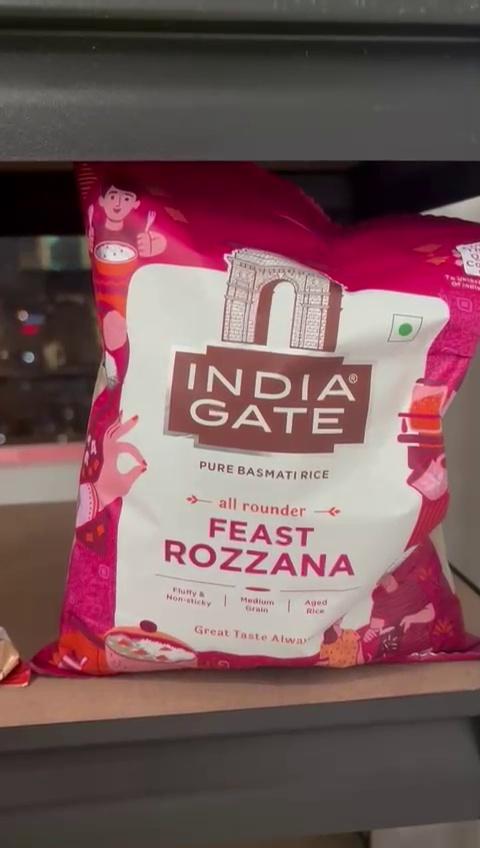India Gate Feast Rozzana: (77, 163, 478, 672)
